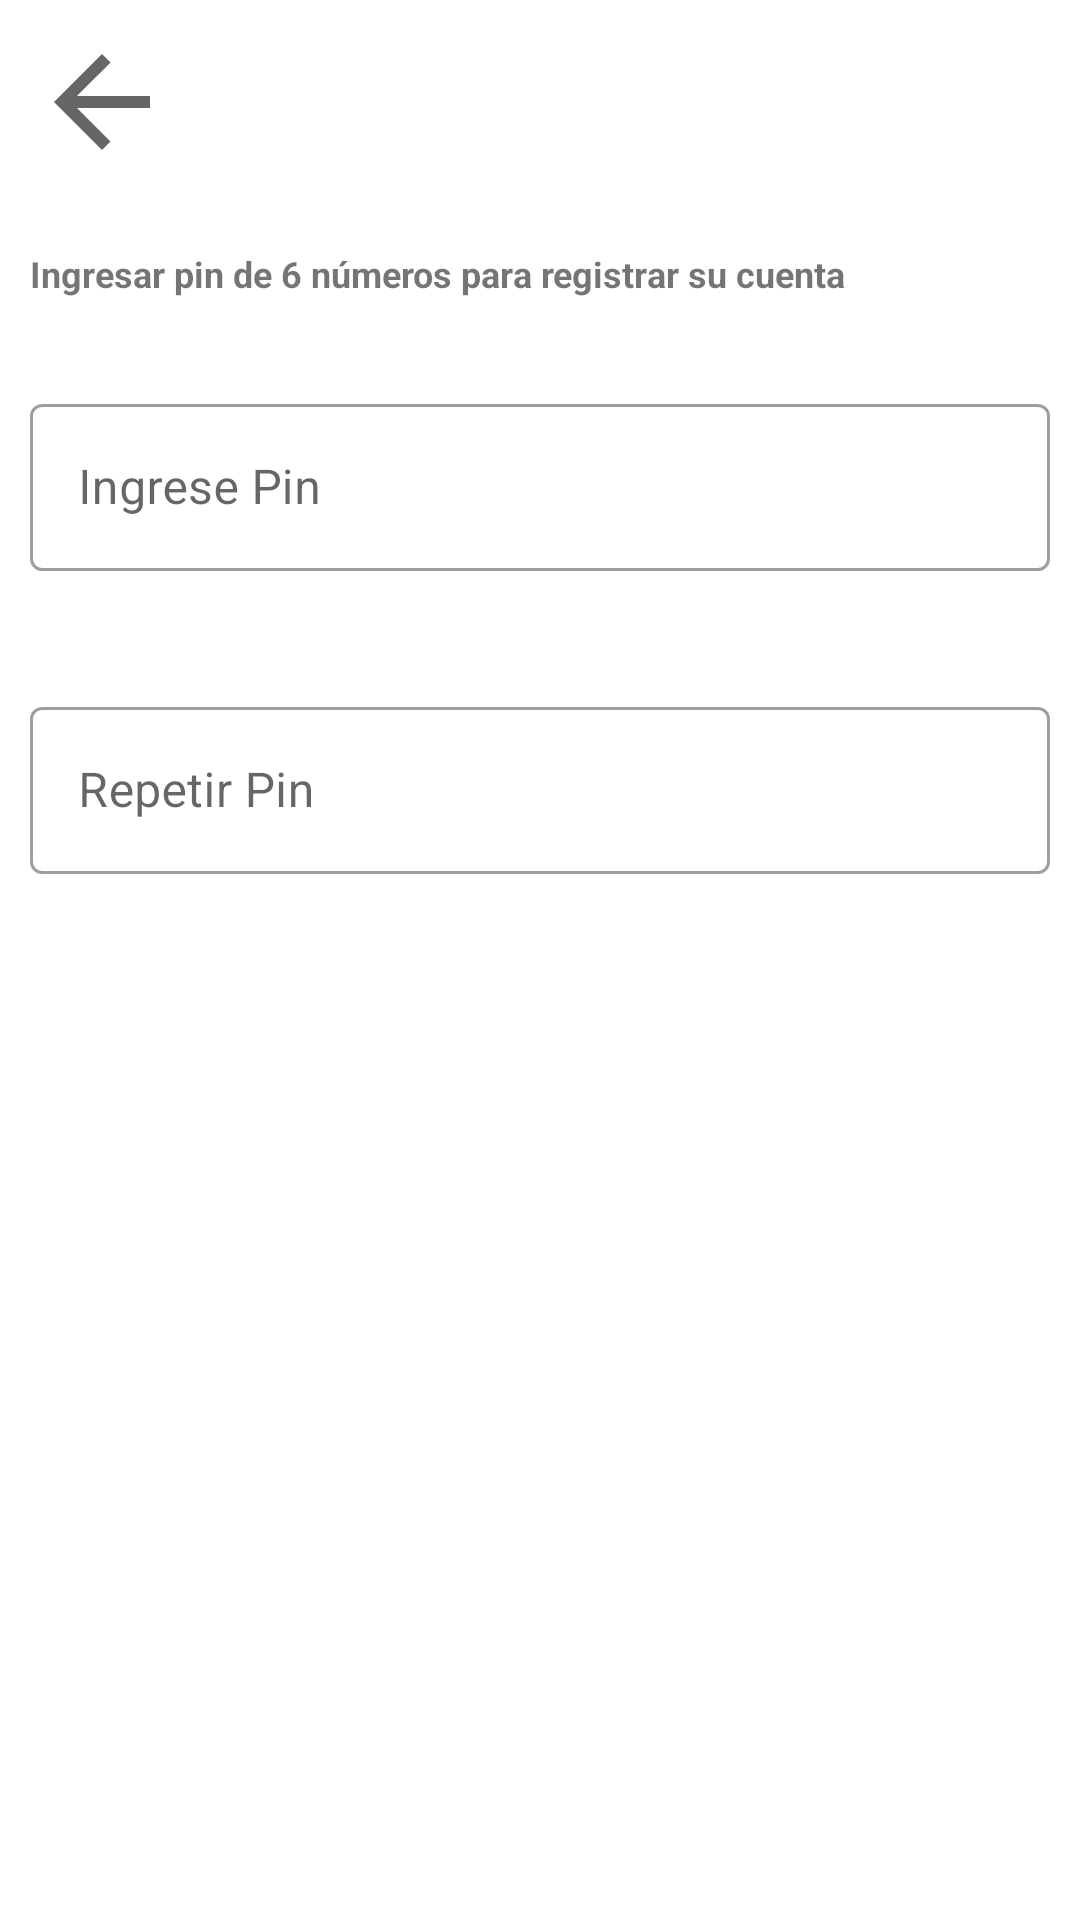

Icon click points for this 1080px x 1920px phone screenshot, format (x,y):
arrow back: (102,102)
